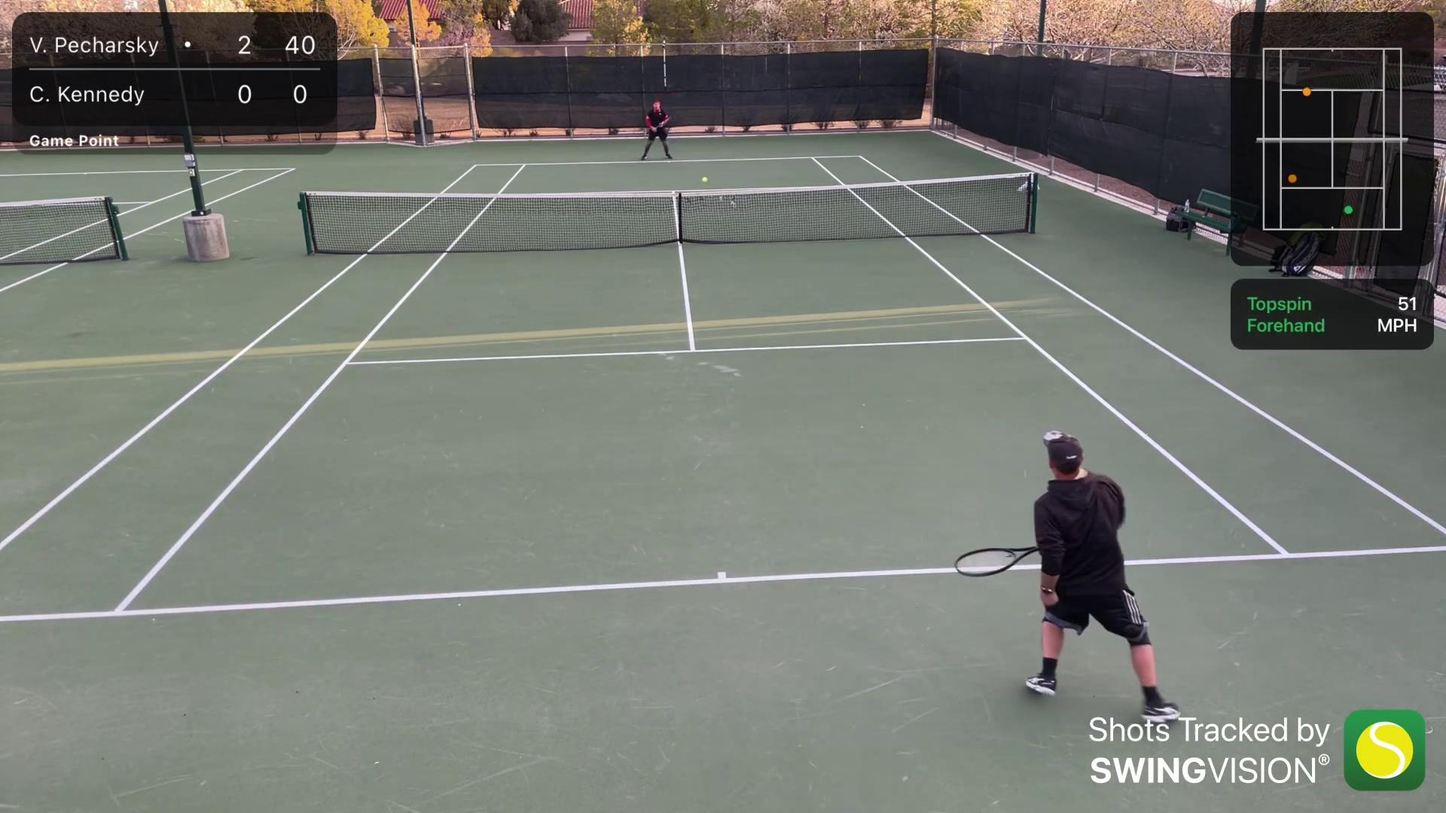ball: (701, 176, 709, 183)
